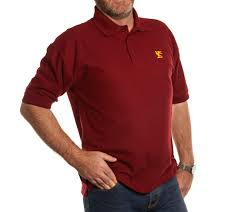S_polo shirt: (25, 10, 196, 183)
